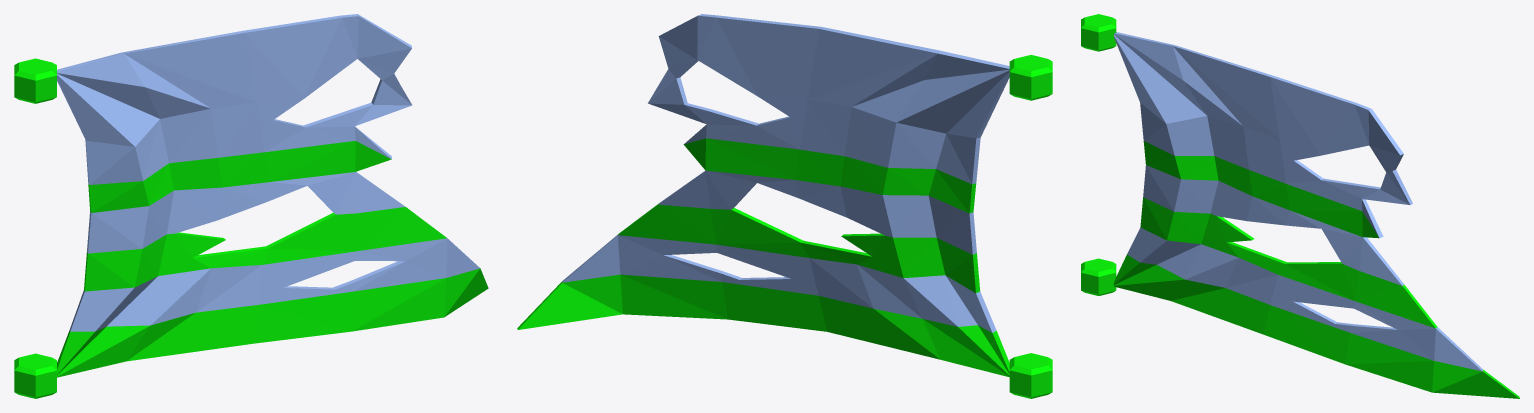
Rendered from SM_Flag_Regular_C_Broken_Fantasy.fbx.
3 renders of one model, left to right at view 1: azimuth 30°, elevation 25°; view 2: azimuth 150°, elevation 25°; view 3: azimuth 330°, elevation 25°, orthographic. The views are drawn at different scales.
Visible parts, largest first — view 1: flag-regular-c-broken-fantasy; view 2: flag-regular-c-broken-fantasy; view 3: flag-regular-c-broken-fantasy.
Part boxes in pixels (x1=…): flag-regular-c-broken-fantasy: x1=14, y1=14, x2=488, y2=398; flag-regular-c-broken-fantasy: x1=517, y1=14, x2=1052, y2=398; flag-regular-c-broken-fantasy: x1=1081, y1=14, x2=1519, y2=398.
Bounding box in the file's own units: 1.06 × 0.7239 × 0.1483.
